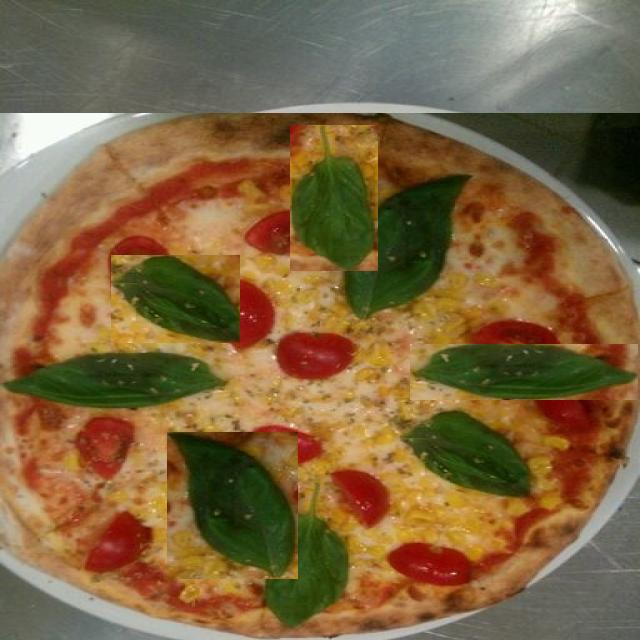basil: (167, 432, 298, 579), (290, 125, 378, 271), (411, 344, 638, 400), (111, 255, 240, 343)
pizza: (0, 113, 640, 640)
